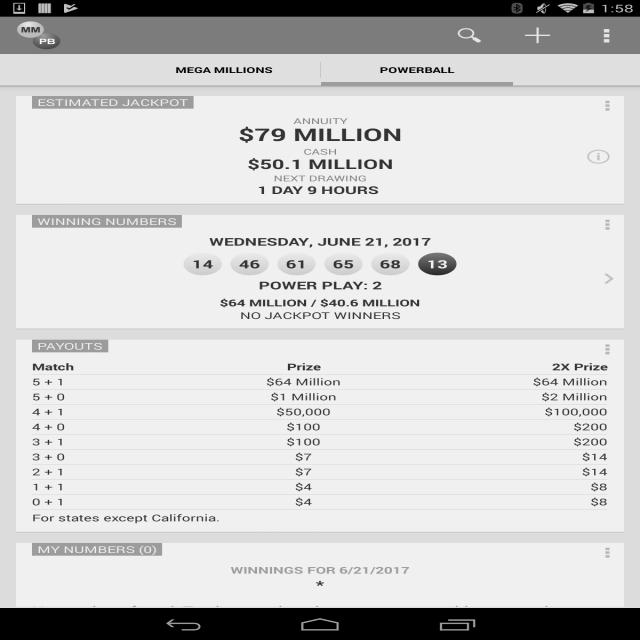ImageView: (14, 19, 64, 52), (582, 146, 616, 167), (594, 98, 620, 114), (594, 216, 620, 232), (596, 270, 622, 286), (594, 341, 620, 357), (594, 544, 620, 560)
TextView: (16, 593, 598, 627), (16, 123, 624, 146), (16, 154, 624, 172), (16, 292, 624, 309), (16, 576, 624, 593), (16, 234, 624, 249), (16, 183, 624, 197), (16, 278, 624, 292), (16, 309, 624, 322), (32, 511, 607, 524), (16, 172, 624, 184), (16, 564, 624, 576), (16, 115, 624, 126), (16, 146, 624, 157), (202, 360, 405, 373), (202, 375, 405, 388), (202, 390, 405, 403), (202, 405, 405, 418), (202, 420, 405, 433), (202, 435, 405, 448), (202, 450, 405, 463), (202, 465, 405, 478), (202, 480, 405, 493), (202, 495, 405, 508), (405, 360, 607, 373), (405, 375, 607, 388), (405, 390, 607, 403), (405, 405, 607, 418), (405, 420, 607, 433), (405, 435, 607, 448), (405, 450, 607, 463), (405, 465, 607, 478), (405, 480, 607, 493), (405, 495, 607, 508), (571, 16, 640, 54), (435, 17, 504, 54), (503, 17, 572, 54), (32, 360, 202, 373), (32, 375, 202, 388), (32, 390, 202, 403), (32, 405, 202, 418), (32, 420, 202, 433), (32, 435, 202, 448), (32, 450, 202, 463), (32, 465, 202, 478), (32, 480, 202, 493), (32, 495, 202, 508), (32, 96, 194, 109), (32, 215, 182, 228), (32, 543, 162, 556), (175, 64, 272, 76), (32, 340, 108, 352), (380, 64, 454, 76), (183, 253, 222, 275), (230, 253, 269, 275), (277, 253, 316, 275), (324, 253, 363, 275), (371, 253, 410, 275), (418, 253, 457, 275)
